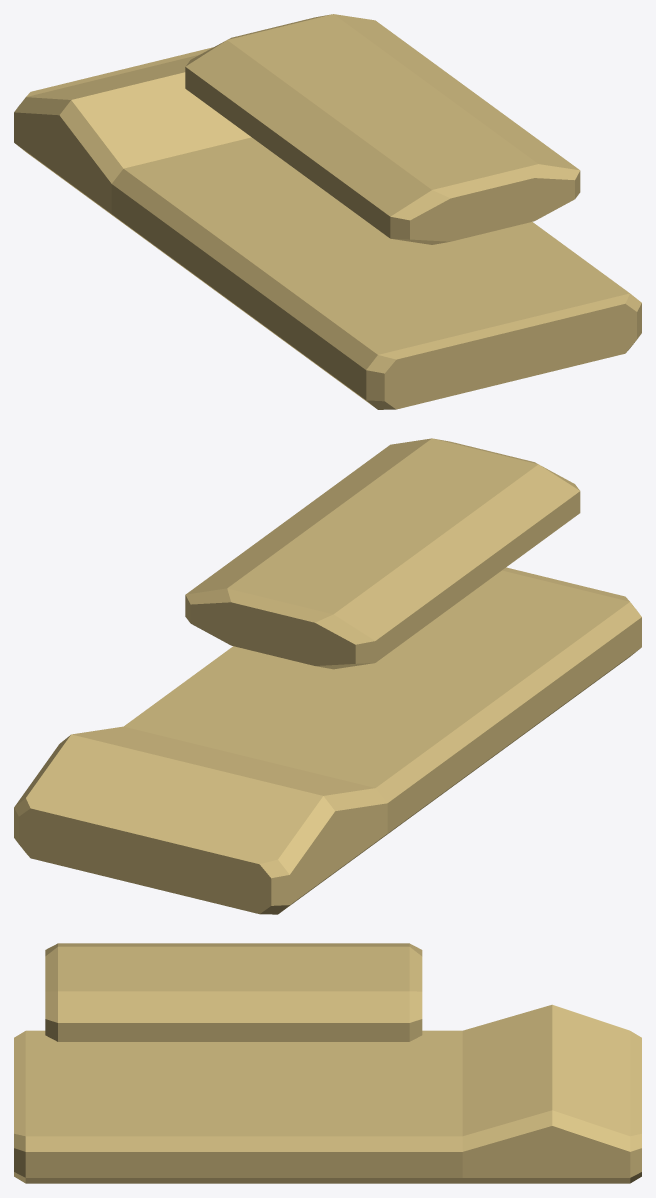
Rendered from tallow_transport_b.glb.
The picture shows the model from 3 angles, top to bottom: view 1: azimuth 30°, elevation 25°; view 2: azimuth 150°, elevation 25°; view 3: azimuth 270°, elevation 25°; orthographic projection. The views are drawn at different scales.
Visible parts, largest first — view 1: tallow_transport_b; view 2: tallow_transport_b; view 3: tallow_transport_b.
Boxes of the visible parts, x1,y1,x2,y2 form: tallow_transport_b: [14, 14, 641, 409]; tallow_transport_b: [14, 438, 641, 914]; tallow_transport_b: [14, 943, 641, 1183].
Bounding box in the file's own units: 3.7 × 2.41 × 8.5.
